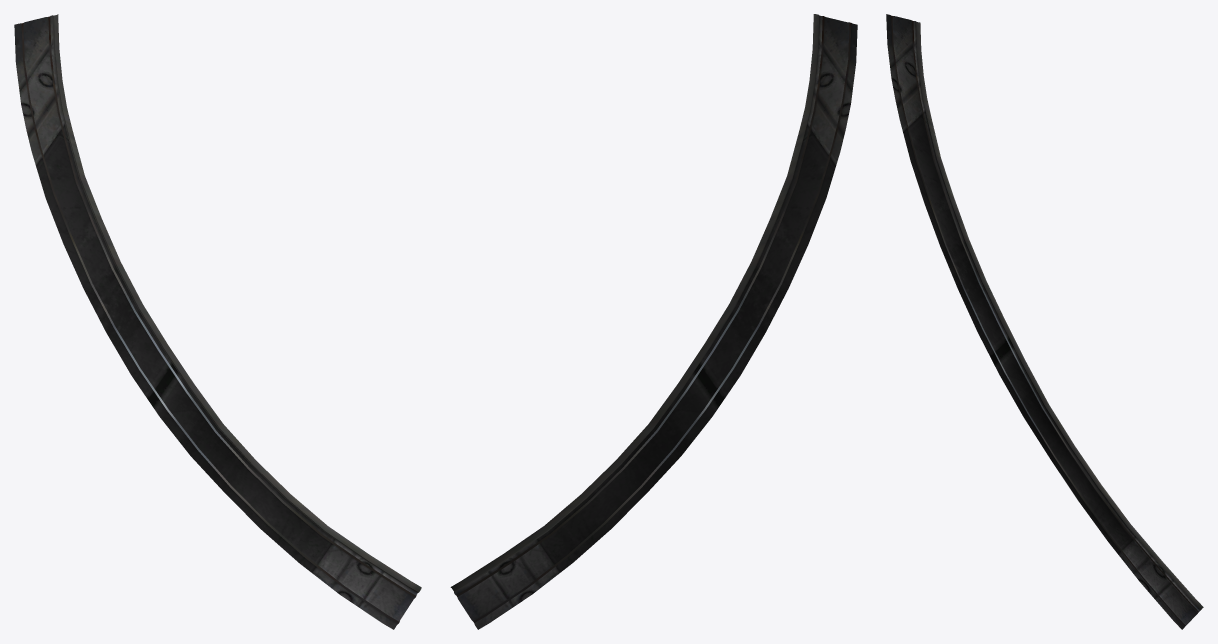
File: p6_express_train_track_b01_flip_LOD2.obj
3 renders of one model, left to right at view 1: azimuth 30°, elevation 25°; view 2: azimuth 150°, elevation 25°; view 3: azimuth 330°, elevation 25°, orthographic. The views are drawn at different scales.
Parts seen in each view (by area): view 1: metal_aircraft_catapult_strip, dub_concrete_wall_01_trim_clean, railroadtrack_top; view 2: metal_aircraft_catapult_strip, dub_concrete_wall_01_trim_clean, railroadtrack_top; view 3: metal_aircraft_catapult_strip, dub_concrete_wall_01_trim_clean, railroadtrack_top.
Part boxes in pixels (box(x1,y1,x2,y2)): metal_aircraft_catapult_strip: box(14, 15, 417, 629); dub_concrete_wall_01_trim_clean: box(52, 14, 421, 592); railroadtrack_top: box(21, 16, 416, 623); metal_aircraft_catapult_strip: box(454, 15, 857, 629); dub_concrete_wall_01_trim_clean: box(450, 14, 819, 592); railroadtrack_top: box(456, 16, 851, 622); metal_aircraft_catapult_strip: box(886, 14, 1200, 629); dub_concrete_wall_01_trim_clean: box(916, 21, 1203, 609); railroadtrack_top: box(891, 15, 1198, 626).
Size of the model in its own units: 4191 by 6861 by 12.88.
